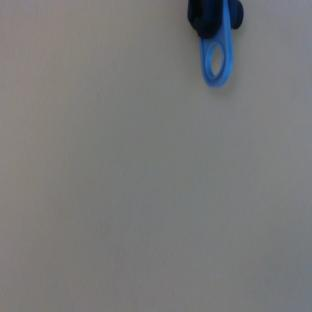part_1_good: (187, 0, 243, 86)
